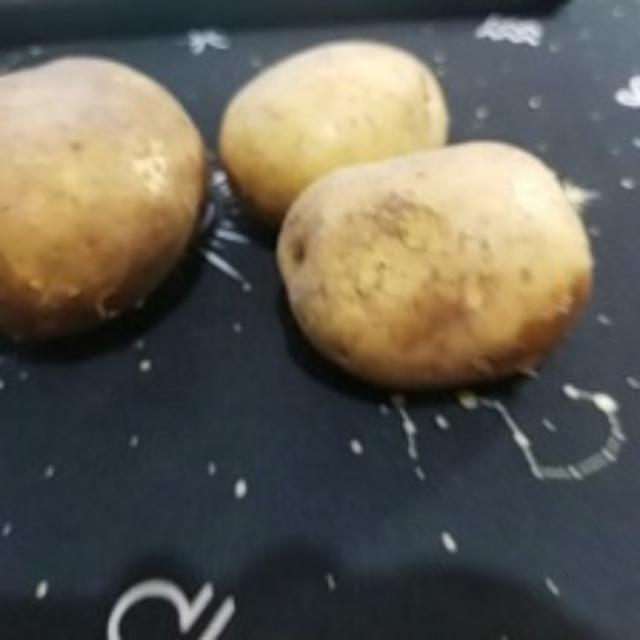Damaged potato: (276, 144, 606, 398)
Potato: (1, 51, 208, 347), (213, 40, 453, 228)
